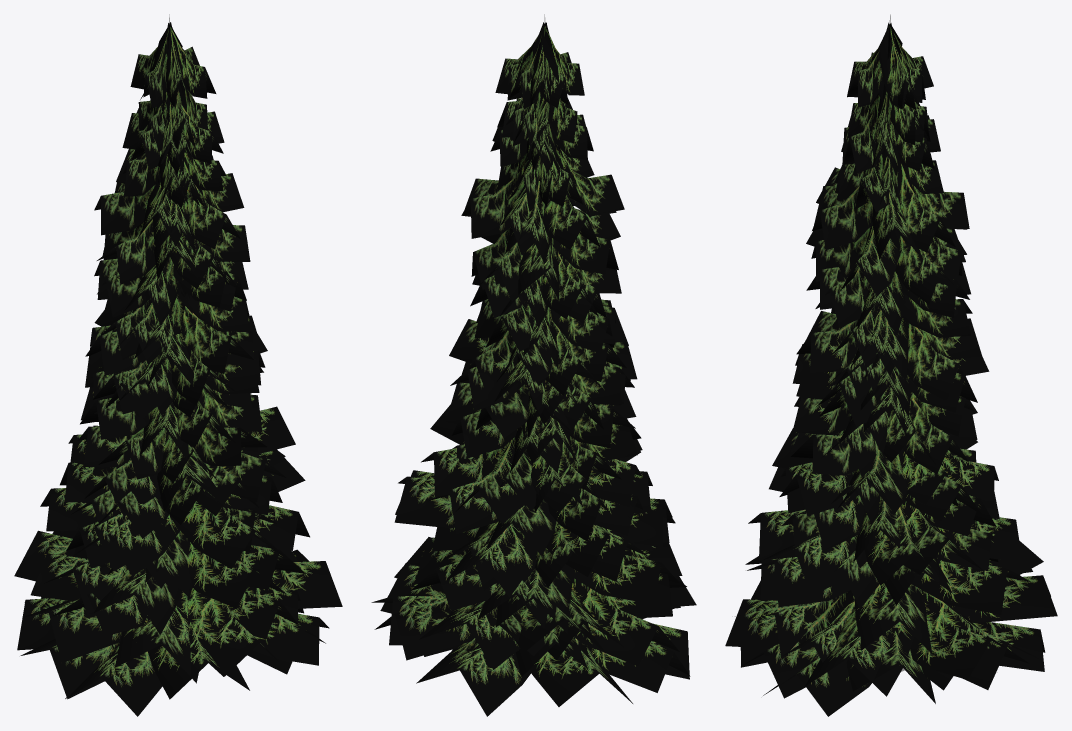
The model's file is Pine1kFaces2kVert.fbx.
3 views of the same model, side by side, from view 1: azimuth 30°, elevation 25°; view 2: azimuth 150°, elevation 25°; view 3: azimuth 270°, elevation 25° (orthographic). The views are drawn at different scales.
Parts seen in each view (by area): view 1: PineTreeBranch_single_color.142, PineTreeBranch_single_color.149, PineTreeBranch_single_color.007, PineTreeBranch_single_color.140, PineTreeBranch_single_color.015, PineTreeBranch_single_color.141, PineTreeBranch_single_color.014, PineTreeBranch_single_color.148, PineTreeBranch_single_color.136, PineTreeBranch_single_color, PineTreeBranch_single_color.039, PineTreeBranch_single_color.143 (+72 smaller); view 2: PineTreeBranch_single_color.140, PineTreeBranch_single_color.004, PineTreeBranch_single_color.145, PineTreeBranch_single_color.137, PineTreeBranch_single_color.013, PineTreeBranch_single_color.005, PineTreeBranch_single_color.138, PineTreeBranch_single_color.144, PineTreeBranch_single_color.006, PineTreeBranch_single_color.152, PineTreeBranch_single_color.067, PineTreeBranch_single_color.012 (+78 smaller); view 3: PineTreeBranch_single_color.010, PineTreeBranch_single_color.136, PineTreeBranch_single_color.009, PineTreeBranch_single_color.003, PineTreeBranch_single_color.143, PineTreeBranch_single_color.138, PineTreeBranch_single_color.150, PineTreeBranch_single_color.137, PineTreeBranch_single_color.034, PineTreeBranch_single_color.065, PineTreeBranch_single_color.151, PineTreeBranch_single_color.026 (+72 smaller).
Boxes of the visible parts, x1,y1,x2,y2 form: PineTreeBranch_single_color.142: (187,587,283,676); PineTreeBranch_single_color.149: (169,501,285,568); PineTreeBranch_single_color.007: (65,642,162,716); PineTreeBranch_single_color.140: (22,599,121,662); PineTreeBranch_single_color.015: (187,542,286,608); PineTreeBranch_single_color.141: (114,591,198,683); PineTreeBranch_single_color.014: (94,567,182,634); PineTreeBranch_single_color.148: (75,514,180,576); PineTreeBranch_single_color.136: (271,561,342,608); PineTreeBranch_single_color: (147,622,249,699); PineTreeBranch_single_color.039: (182,306,253,373); PineTreeBranch_single_color.143: (247,614,325,674); PineTreeBranch_single_color.140: (571,577,679,666); PineTreeBranch_single_color.004: (416,638,531,716); PineTreeBranch_single_color.145: (446,521,536,599); PineTreeBranch_single_color.137: (374,597,474,660); PineTreeBranch_single_color.013: (561,555,679,604); PineTreeBranch_single_color.005: (530,637,632,706); PineTreeBranch_single_color.138: (419,601,520,669); PineTreeBranch_single_color.144: (394,476,454,528); PineTreeBranch_single_color.006: (587,642,690,692); PineTreeBranch_single_color.152: (421,444,506,496); PineTreeBranch_single_color.067: (461,160,528,238); PineTreeBranch_single_color.012: (496,568,572,633); PineTreeBranch_single_color.010: (911,556,1030,614); PineTreeBranch_single_color.136: (805,606,914,696); PineTreeBranch_single_color.009: (854,583,932,654); PineTreeBranch_single_color.003: (910,622,1029,679); PineTreeBranch_single_color.143: (742,590,854,698); PineTreeBranch_single_color.138: (922,575,1057,621); PineTreeBranch_single_color.150: (762,533,866,596); PineTreeBranch_single_color.137: (911,589,1036,689); PineTreeBranch_single_color.034: (907,322,963,399); PineTreeBranch_single_color.065: (812,168,872,249); PineTreeBranch_single_color.151: (864,504,950,585); PineTreeBranch_single_color.026: (902,398,968,473).
Bounding box in the file's own units: 3.8 × 8.27 × 3.8.
